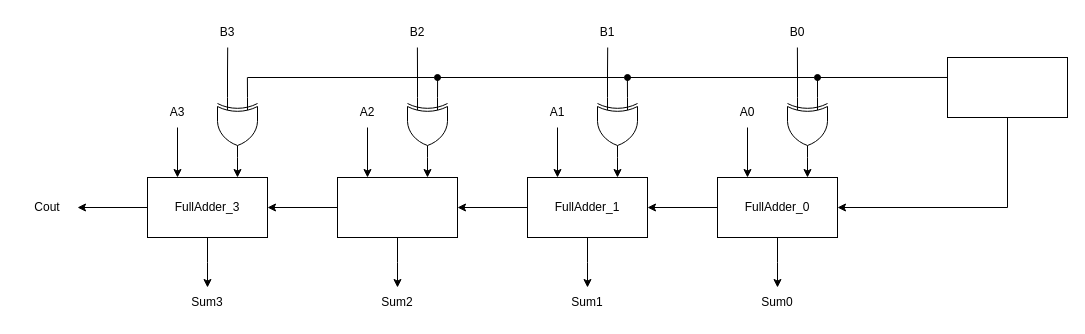
The diagram is 1085 pixels wide and 334 high, and some of its shapes have lost their labels. The shapes that lost their labels are listed below. From the top down, each one's box as (x1, y1, x2, y2) in pixels, then its label:
(946, 56, 1068, 118): Mode 0 : Adder 1 : Substractor
(336, 176, 458, 238): FullAdder_2
